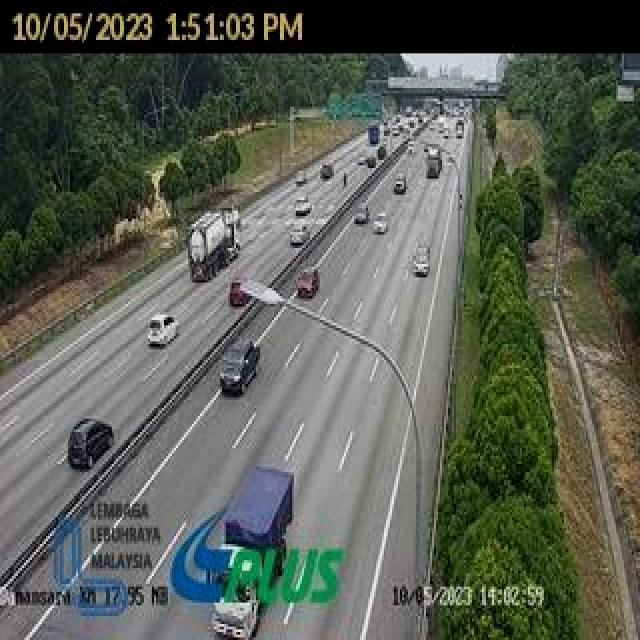Car: (212, 330, 278, 403), (62, 397, 123, 474), (144, 304, 189, 352), (404, 241, 446, 287), (223, 269, 261, 315), (346, 195, 379, 234), (282, 216, 312, 257), (294, 264, 322, 305), (371, 210, 399, 246), (390, 166, 414, 204), (289, 192, 319, 220)
Truck: (189, 446, 309, 640), (180, 195, 246, 283)
